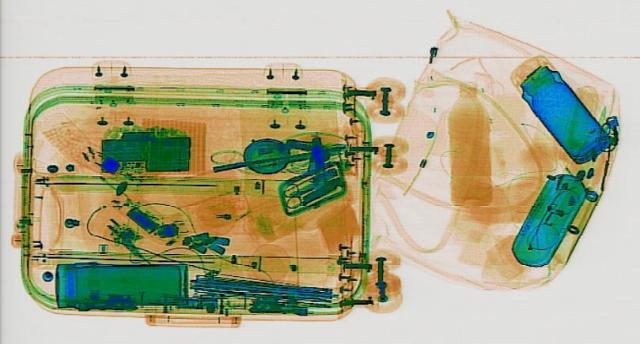Scissors: (262, 172, 340, 207)
